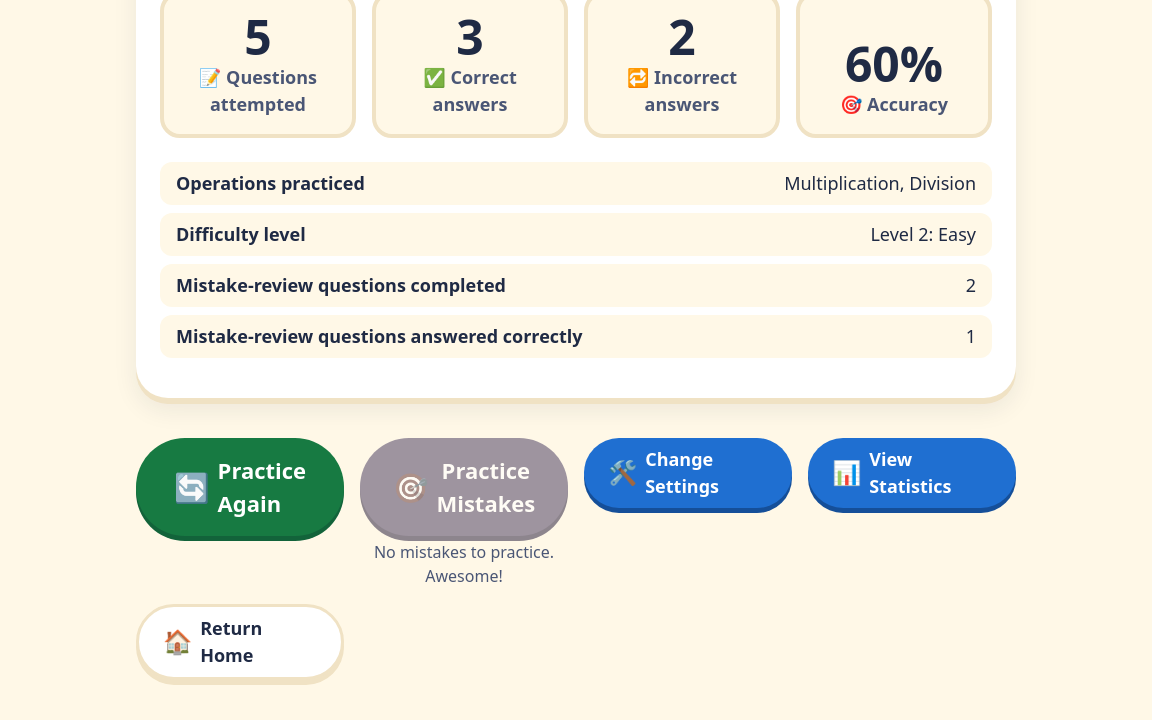
Scenario: SessionSummaryPage › "View Statistics" opens the right page
(page scrolled)
Click the link "📊 View Statistics" at (912,473), box [808, 438, 1016, 508]
(page scrolled)
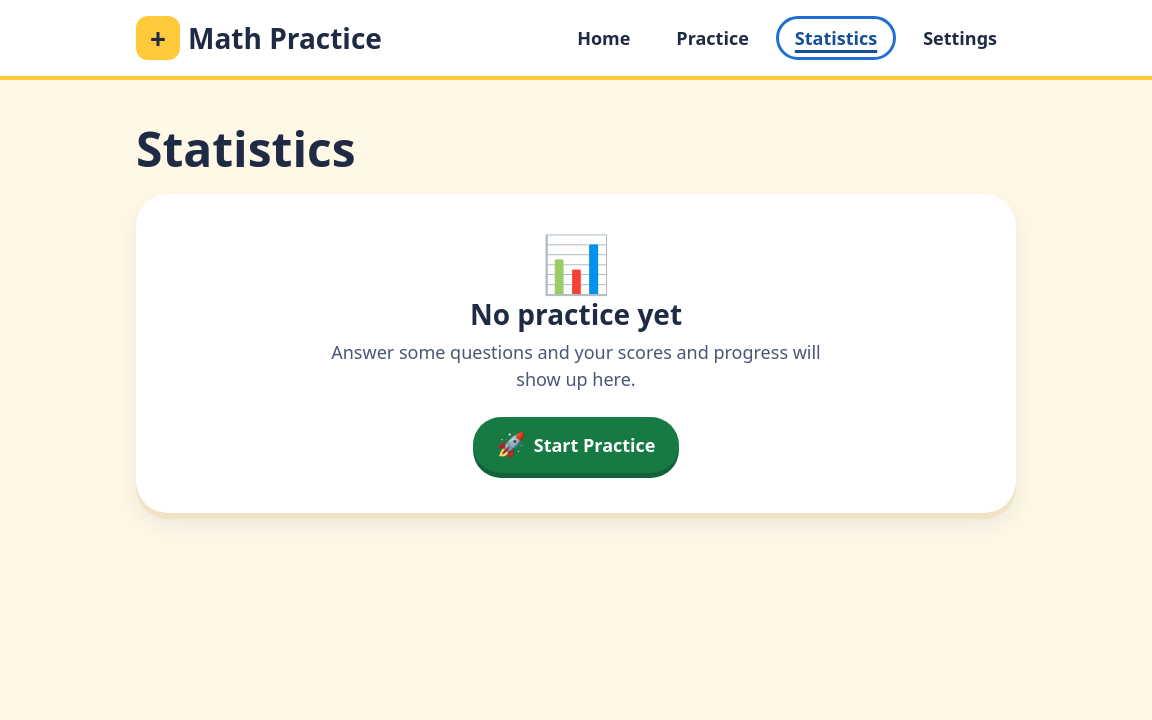
Check: the heading "Statistics" is shown, box [136, 116, 356, 181]
